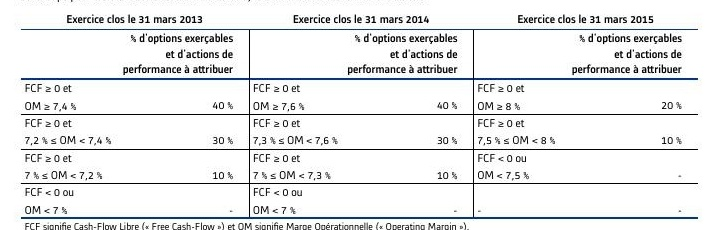table: (0, 0, 713, 230)
